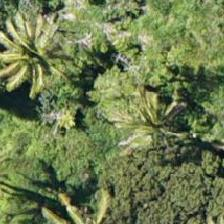coconut_tree: (0, 12, 80, 102)
